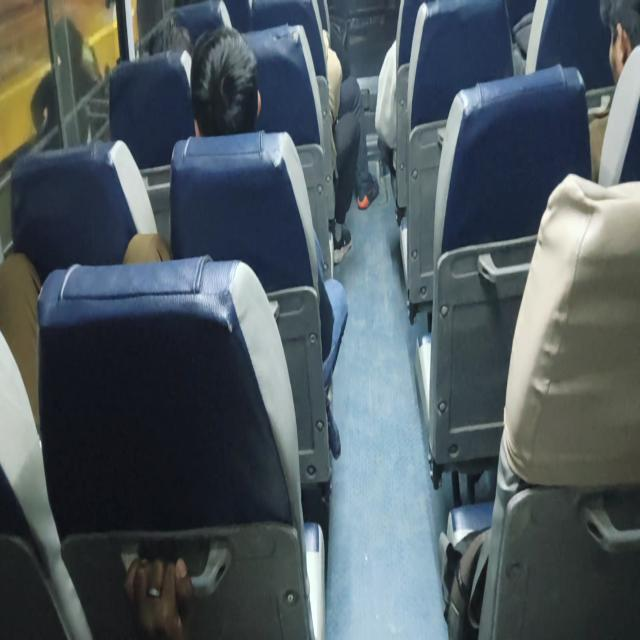person: (199, 47, 274, 143), (135, 14, 197, 68), (605, 0, 640, 84)
